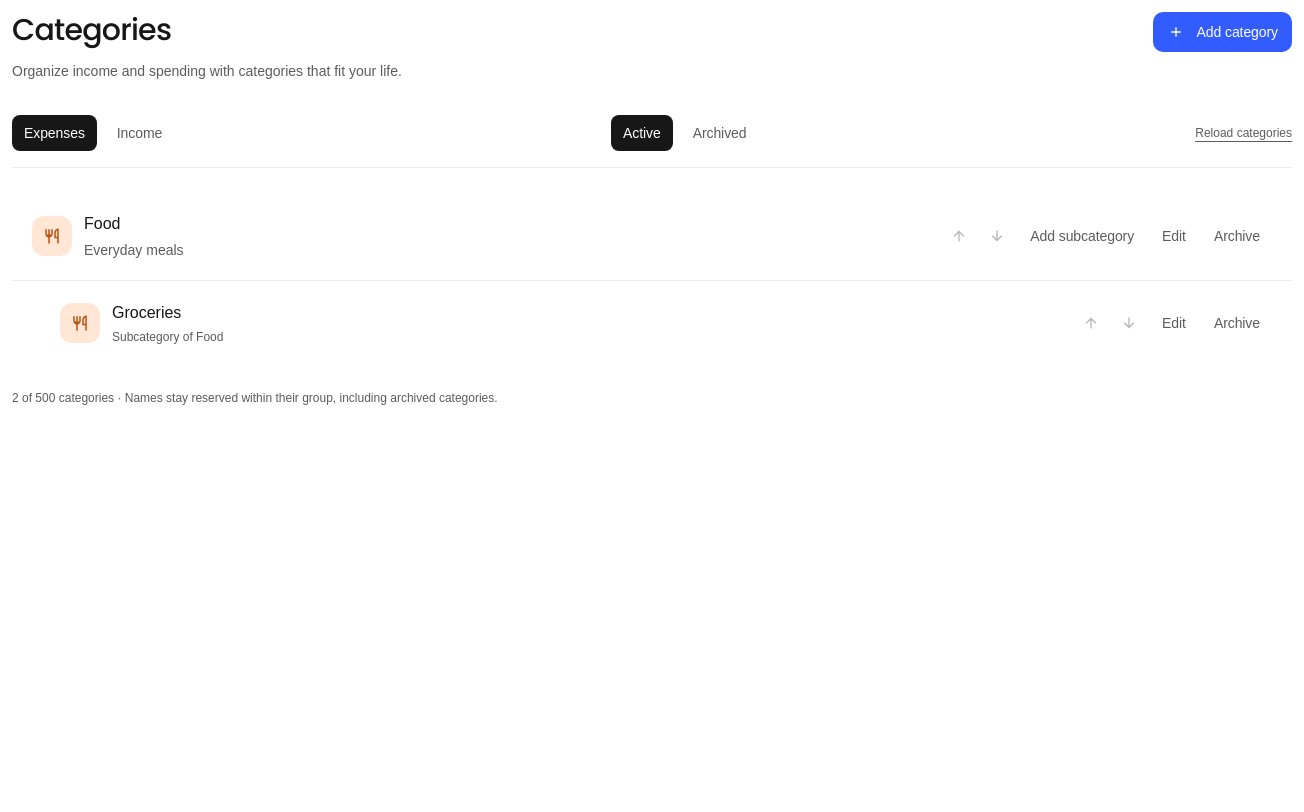
Test: parent archive is confirmed and children must wait for the parent before restoration
Click the button with aria-label "Archive Food". click: (1237, 236)
box: [1202,218,1272,254]
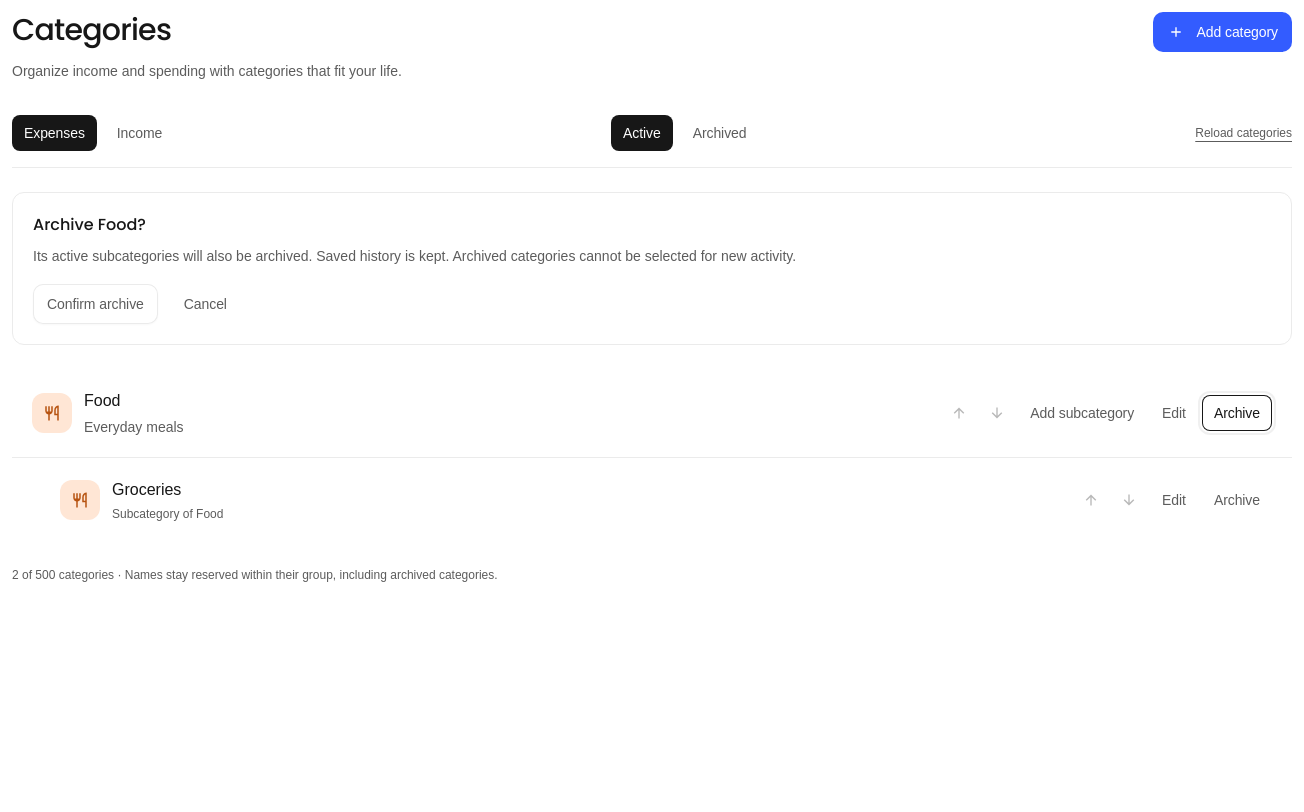
Expected: the text "Its active subcategories will also be archived" is shown, [33,248,316,264]
Click the button "Confirm archive". click: (95, 304)
box: [33,284,158,324]
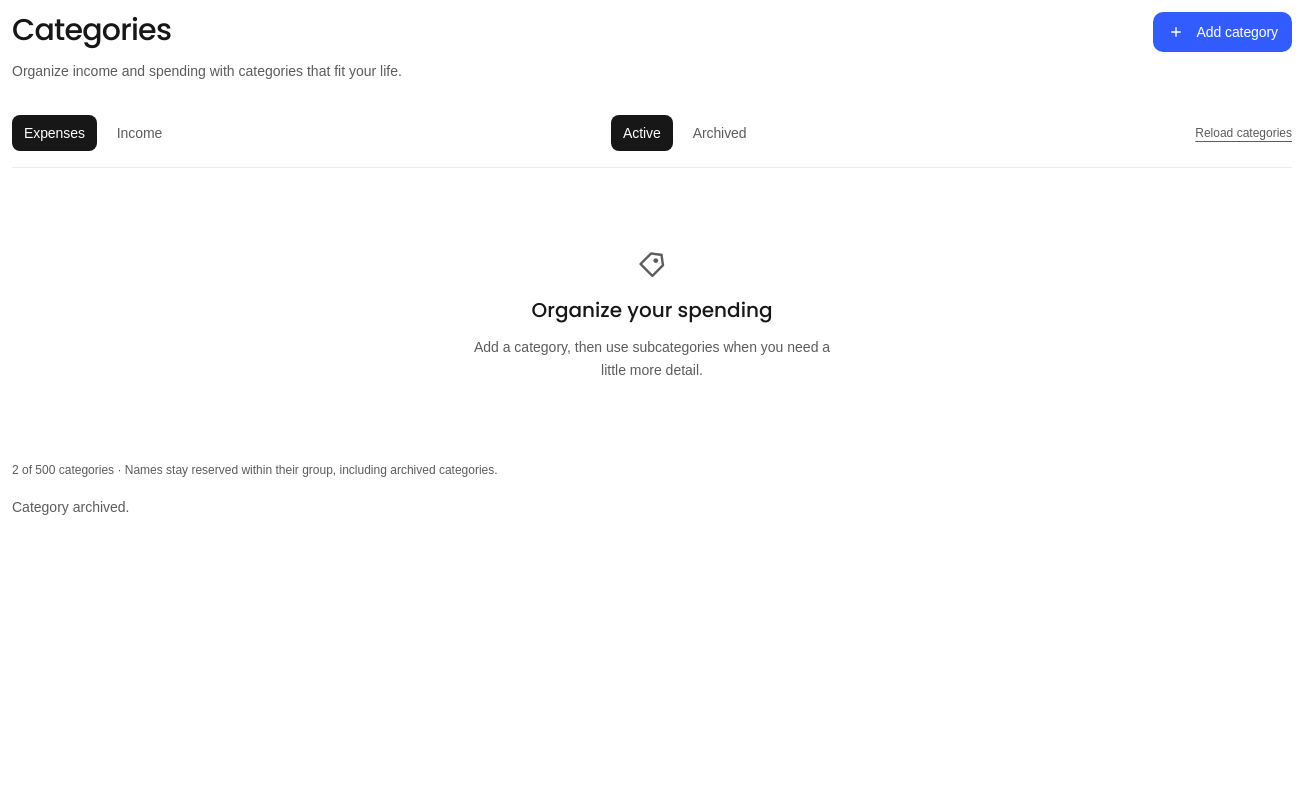
Click the button "Archived". click: (720, 133)
box: [681,115,758,151]
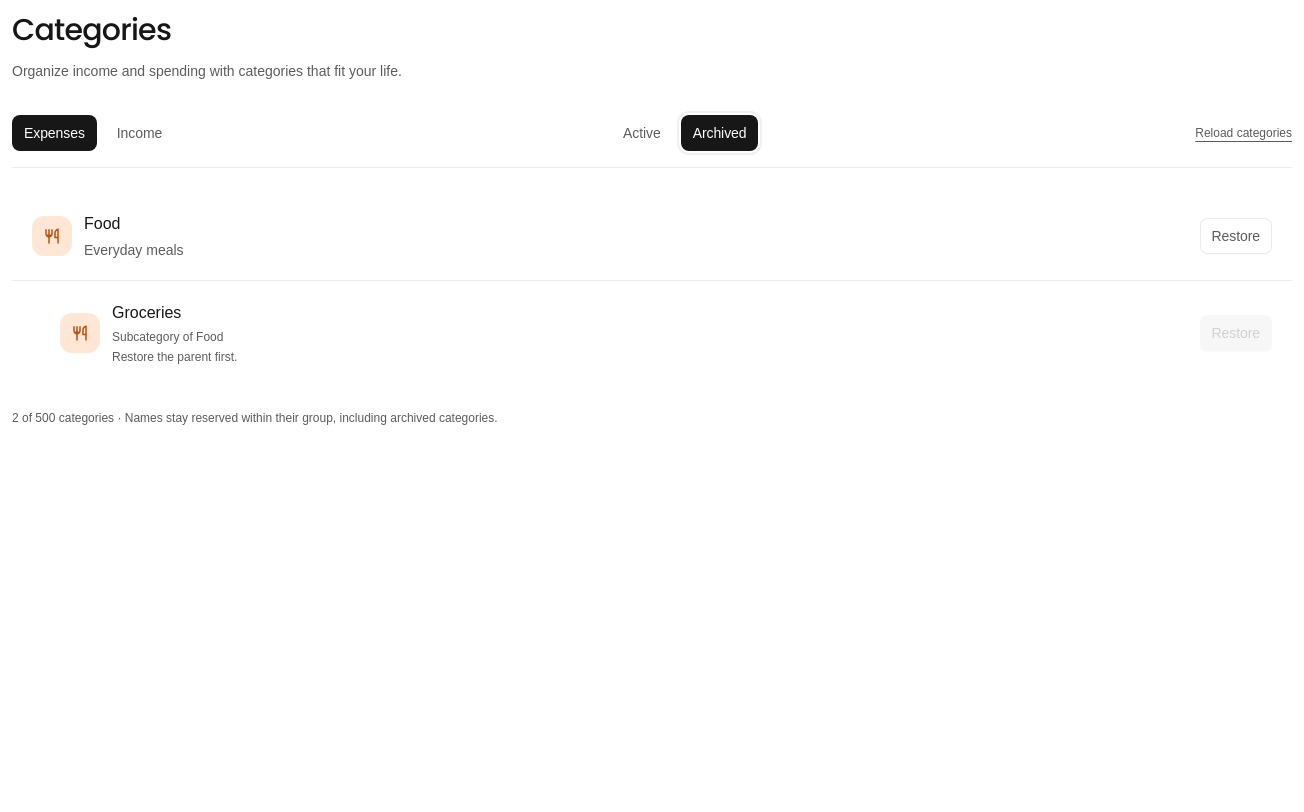
Expected: the button with aria-label "Restore Groceries" is disabled, [1200,315,1272,351]
Click the button with aria-label "Restore Food". click: (1236, 236)
box: [1200,218,1272,254]
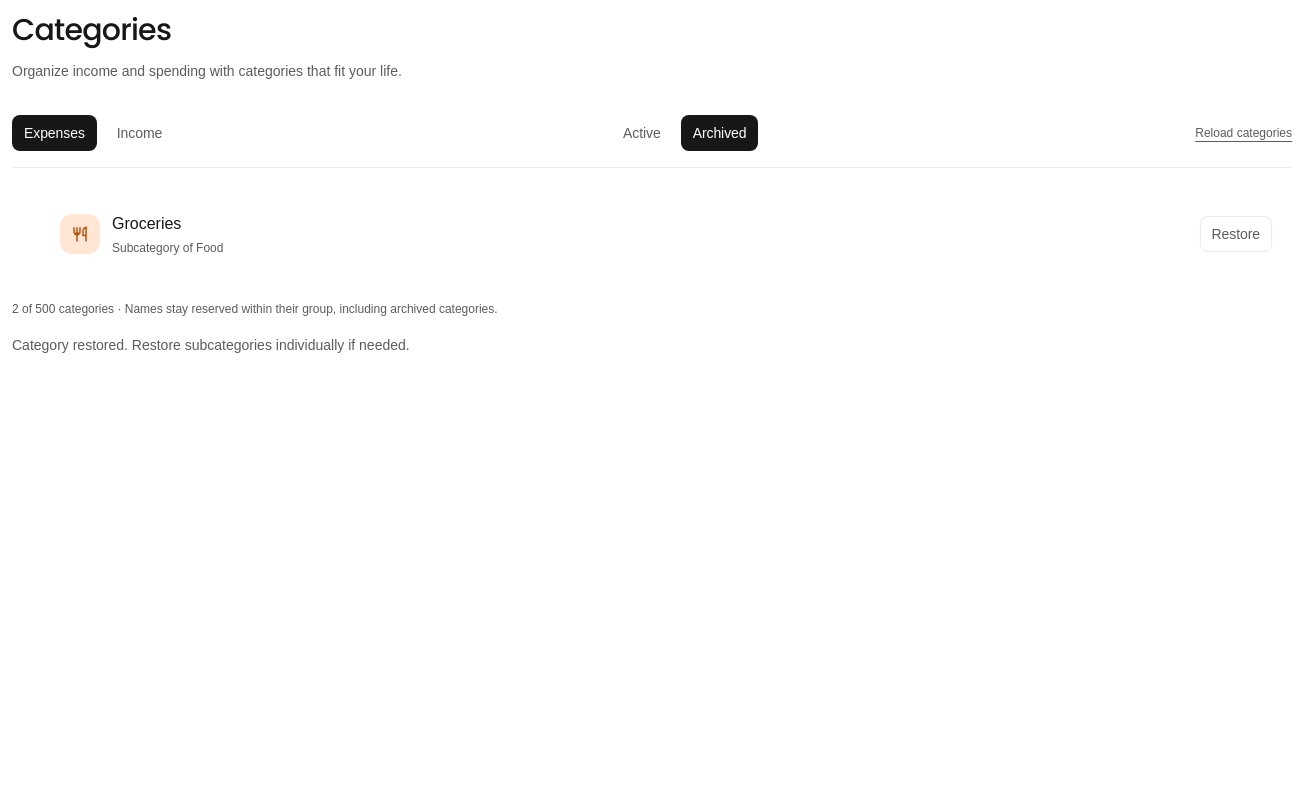
Expected: the button with aria-label "Restore Groceries" is enabled
Click the button with aria-label "Restore Groceries". click: (1236, 234)
box: [1200,216,1272,252]
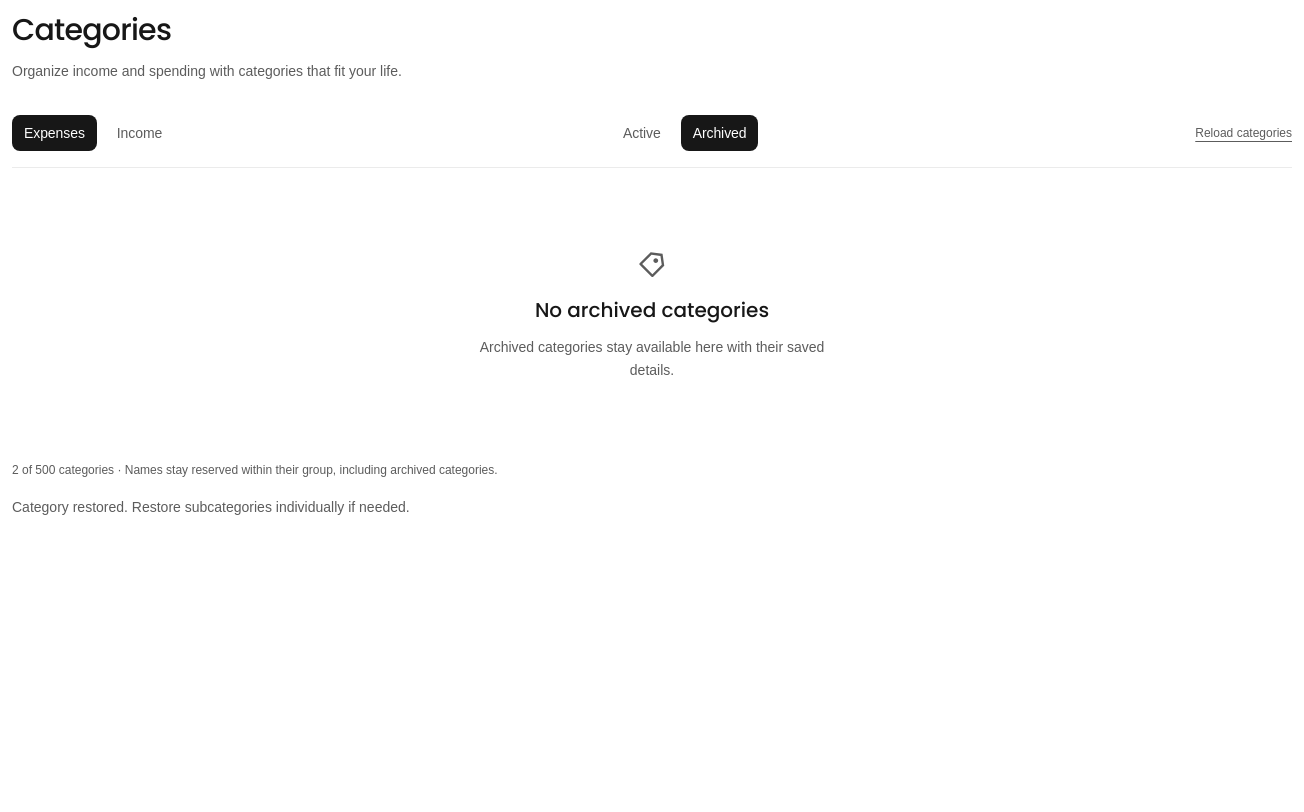
Expected: the heading "No archived categories" is shown, [535,296,769,324]
Click the button "Active". click: (642, 133)
box: [611,115,673,151]
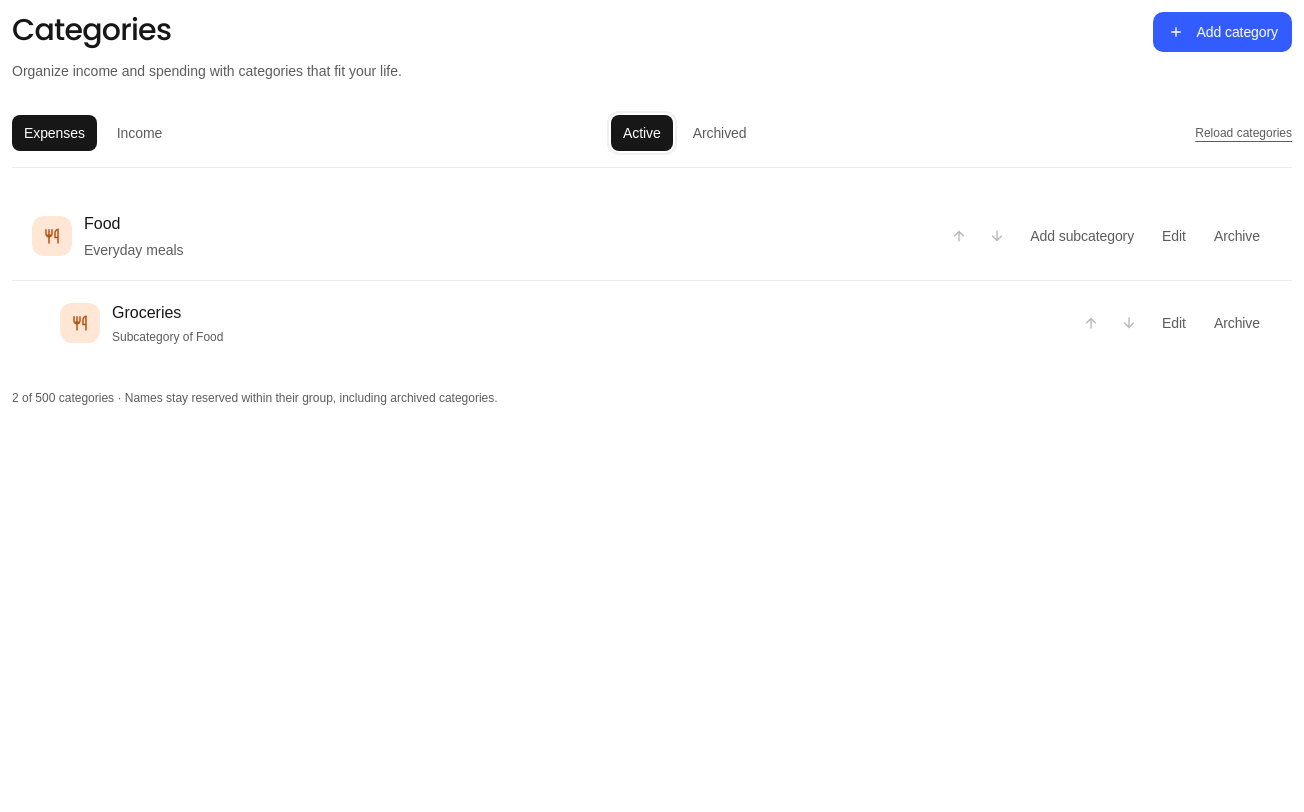
Expected: the heading "Groceries" is shown, [112,304,181,321]
